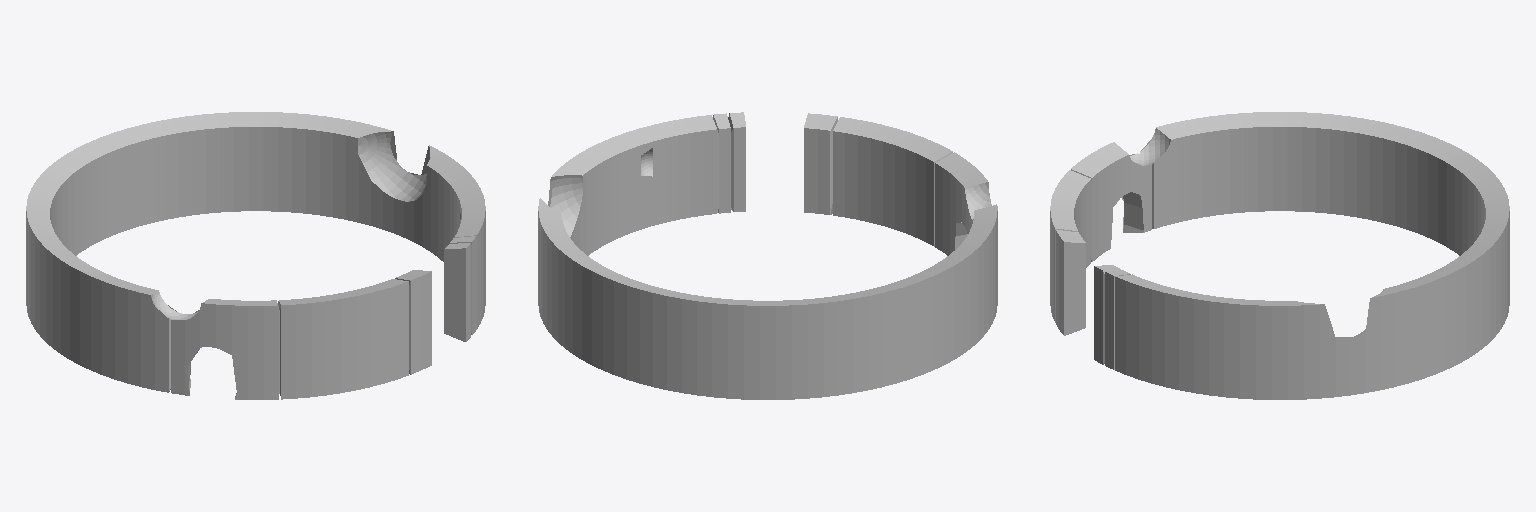
File: CircleBlock1.obj
The picture shows the model from 3 angles: view 1: azimuth 30°, elevation 25°; view 2: azimuth 150°, elevation 25°; view 3: azimuth 270°, elevation 25°; orthographic projection.
Visible parts, largest first — view 1: CircleBlock1; view 2: CircleBlock1; view 3: CircleBlock1.
Part boxes in pixels (bbox=[...]): CircleBlock1: bbox=[26, 112, 485, 399]; CircleBlock1: bbox=[538, 112, 997, 399]; CircleBlock1: bbox=[1050, 112, 1509, 399].
Size of the model in its own units: 26.13 by 5.92 by 26.15.